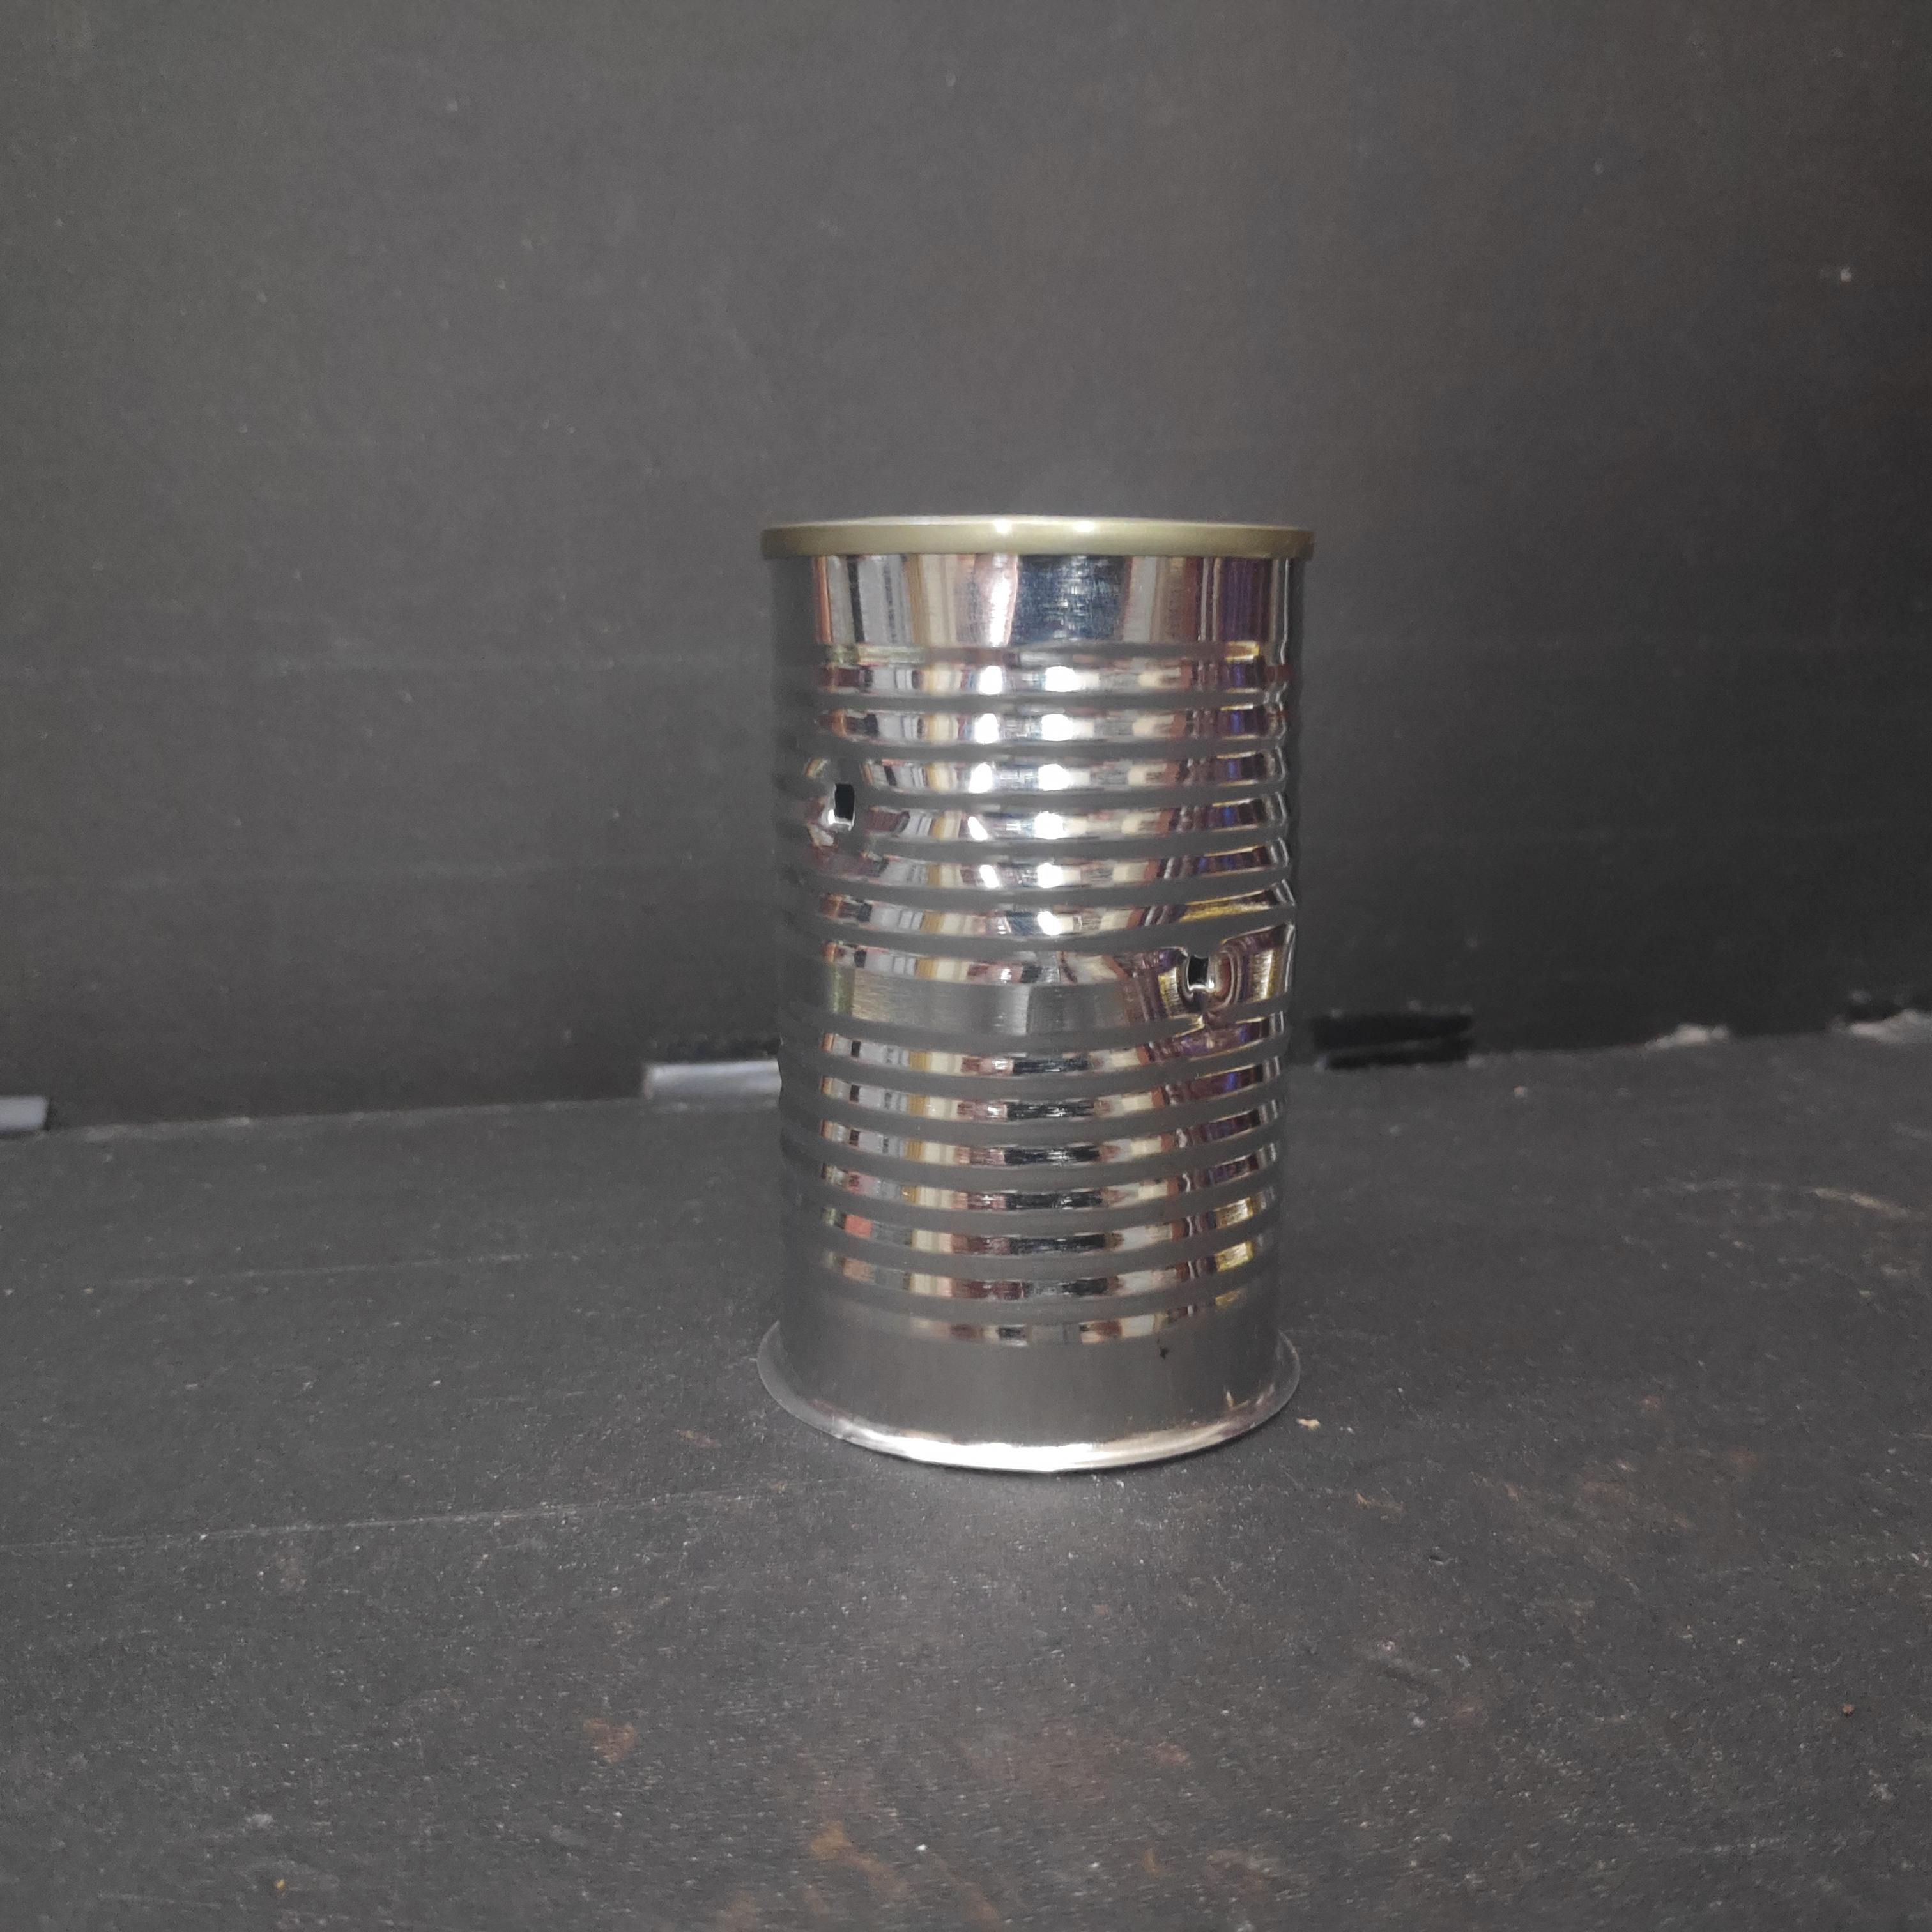Critical Defect: (752, 511, 1315, 1484)
